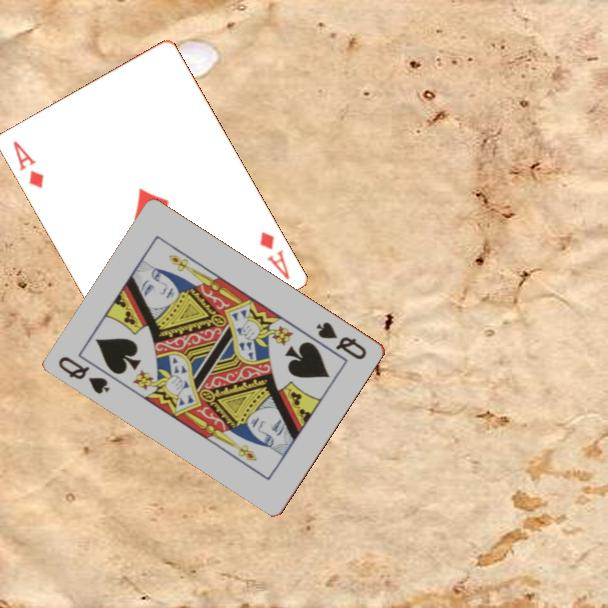d01: (9, 137, 47, 191), (256, 228, 293, 283)
s12: (55, 352, 114, 397), (313, 318, 370, 363)
